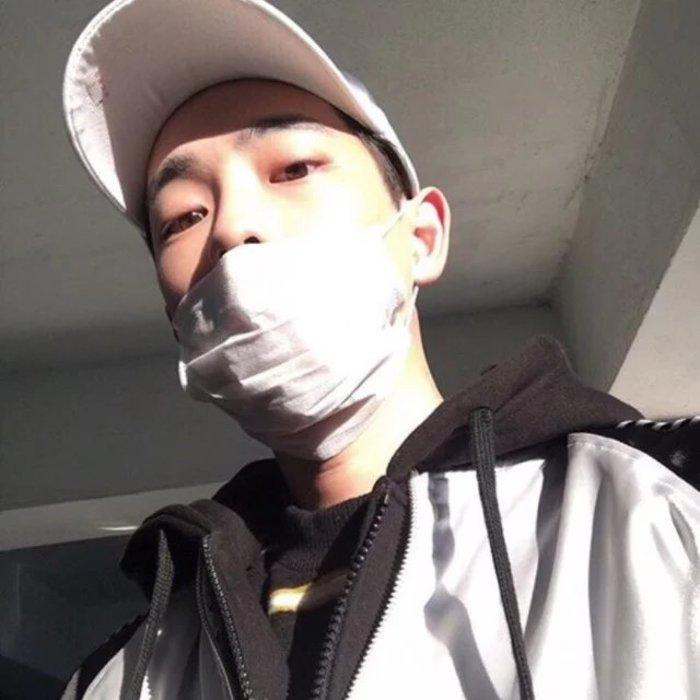WRONG: (154, 126, 418, 438)
